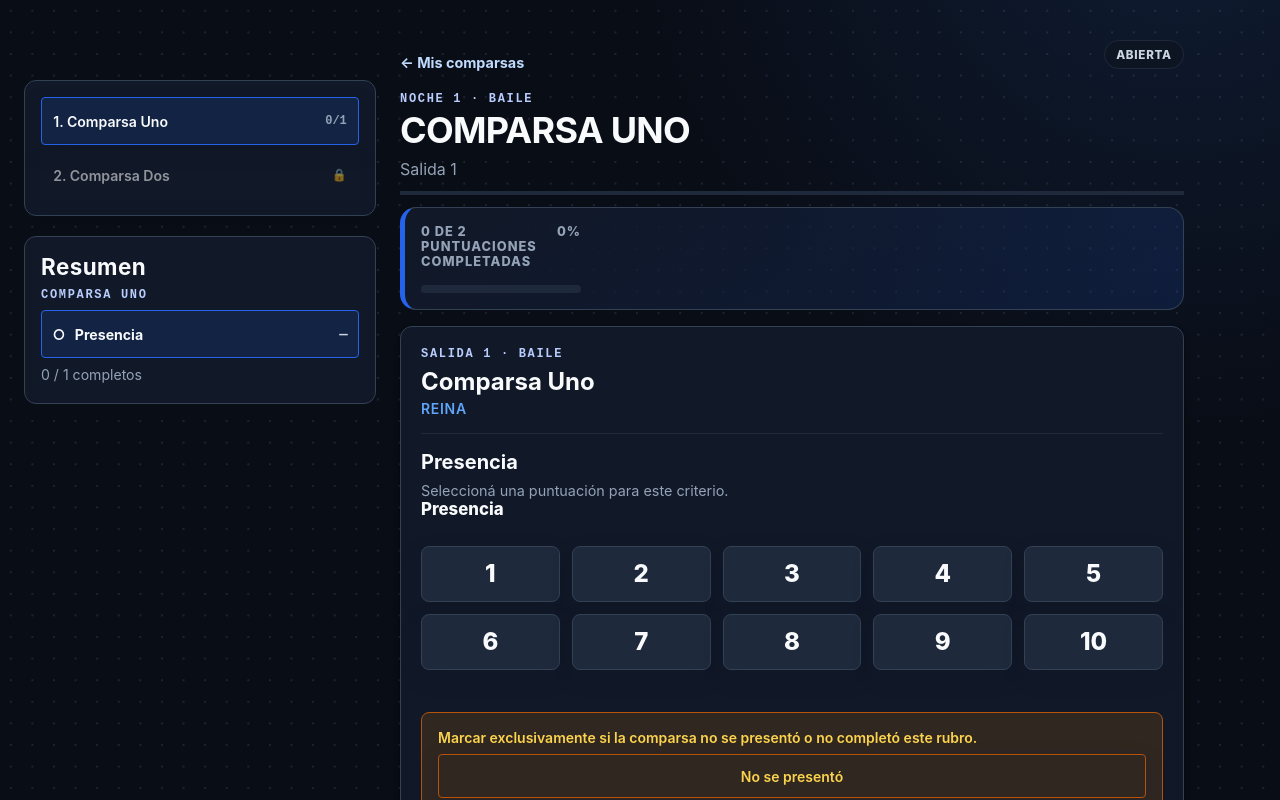
JudgeBallotPage › despliega banner de continuidad al completar el último ítem de una comparsa y avanza a la siguiente (RF-192)
Check: the 2nd heading "Comparsa Uno" is shown, box [421,367,595,396]
Click the button "No se presentó": [792, 776] box [438,754,1146,798]
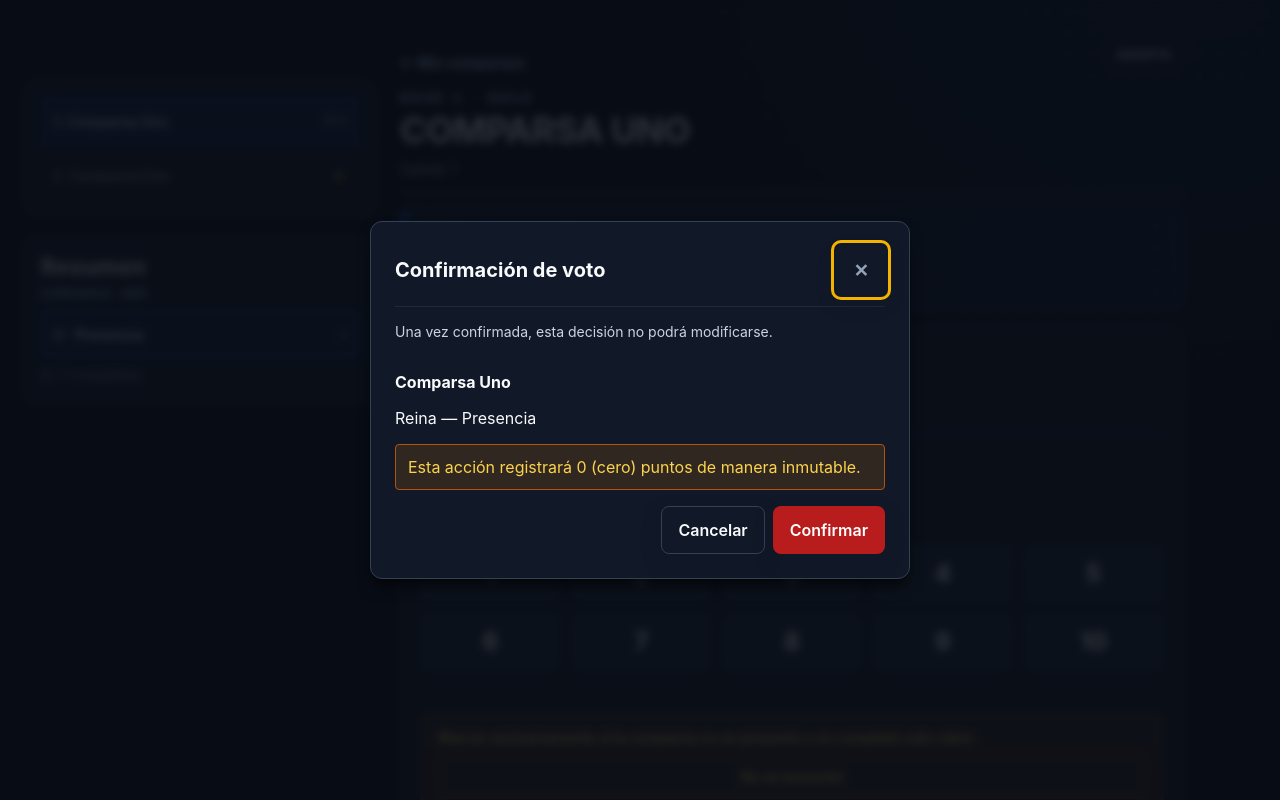
Click the button "Confirmar": [829, 530] box [773,506,885,554]
(page scrolled)
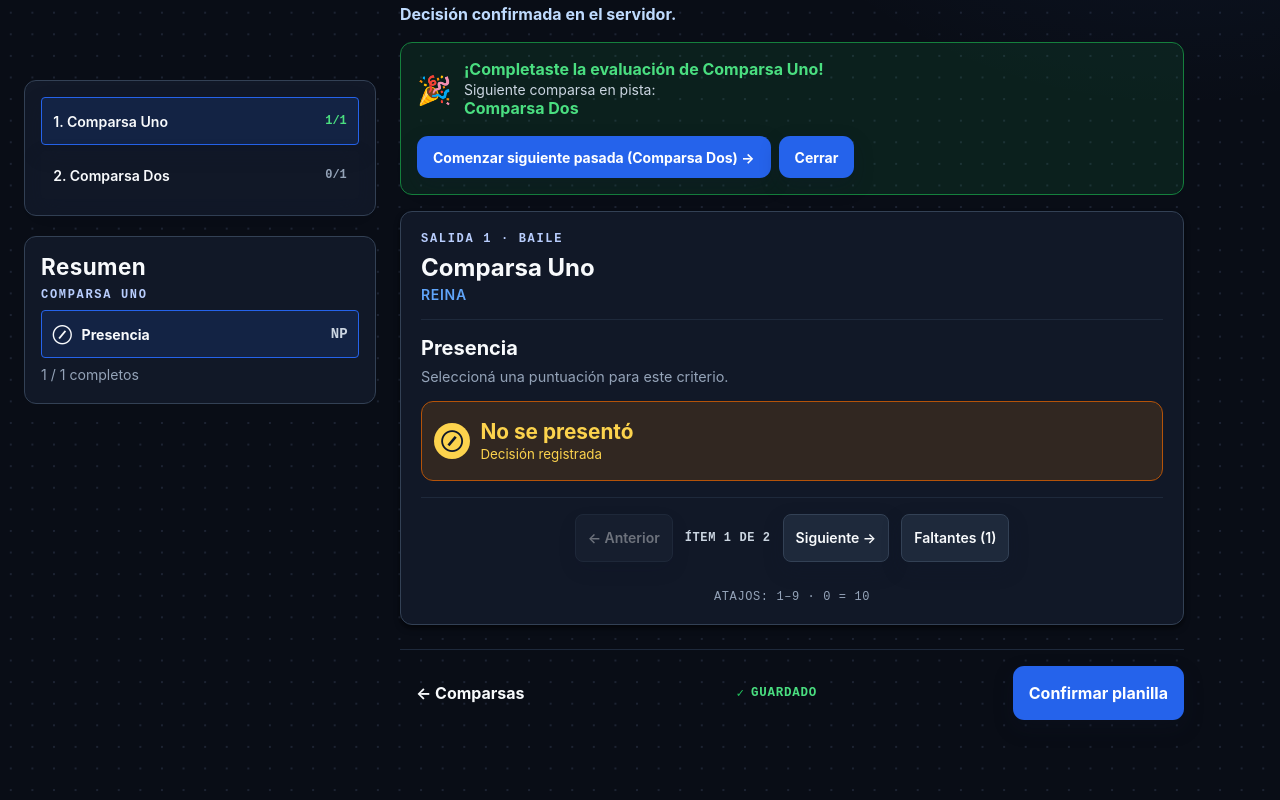
Check: the text "¡Completaste la evaluación de Comparsa Uno!" is shown, box [464,59,824,79]
Check: the text "Siguiente comparsa en pista: Comparsa Dos" is shown, box [464,81,656,118]
Check: the text "Comparsa Dos" is shown, box [464,98,579,118]
Click the button "Comenzar siguiente pasada (Comparsa Dos) →": [594, 157] box [417,136,770,178]
(page scrolled)
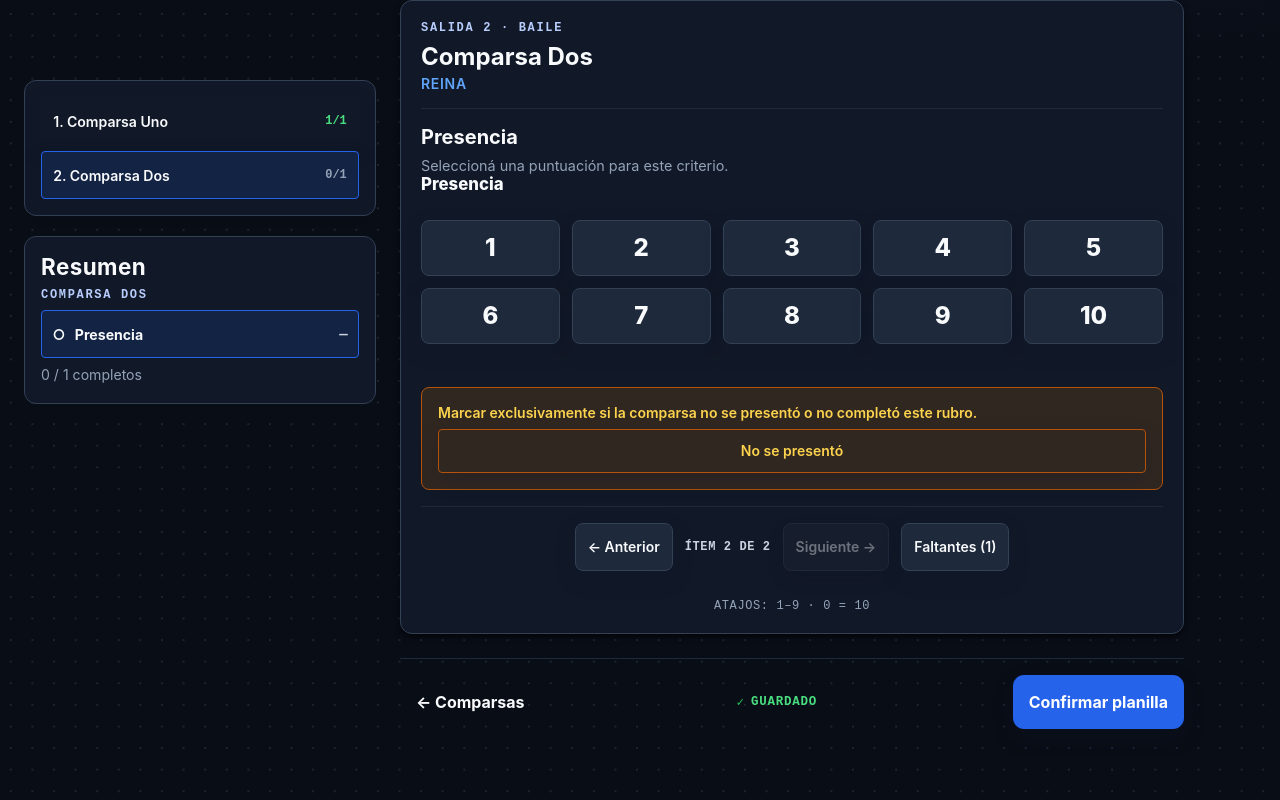
Check: the element named "Comparsa Dos: Presencia" is shown, box [421,174,1163,490]
